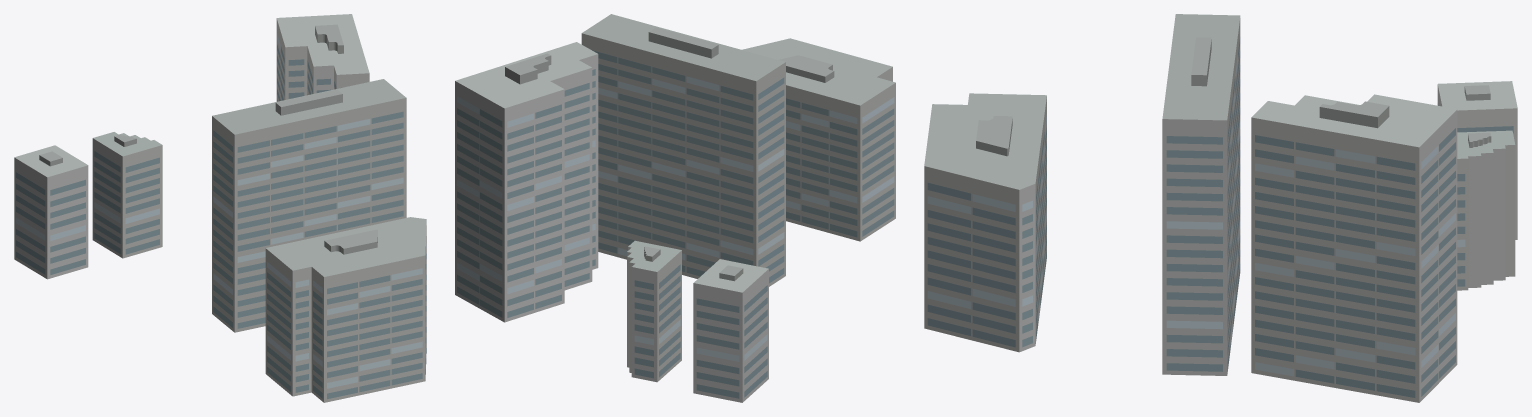
Rendered from apt-a10022941.glb.
The picture shows the model from 3 angles, left to right: view 1: azimuth 30°, elevation 25°; view 2: azimuth 150°, elevation 25°; view 3: azimuth 270°, elevation 25°; orthographic projection. The views are drawn at different scales.
Parts seen in each view (by area): view 1: apt-a10022941; view 2: apt-a10022941; view 3: apt-a10022941.
Part boxes in pixels (x1=…): apt-a10022941: x1=14, y1=14, x2=426, y2=402; apt-a10022941: x1=455, y1=14, x2=895, y2=402; apt-a10022941: x1=924, y1=14, x2=1517, y2=402.
Bounding box in the file's own units: 88.72 × 58 × 117.
